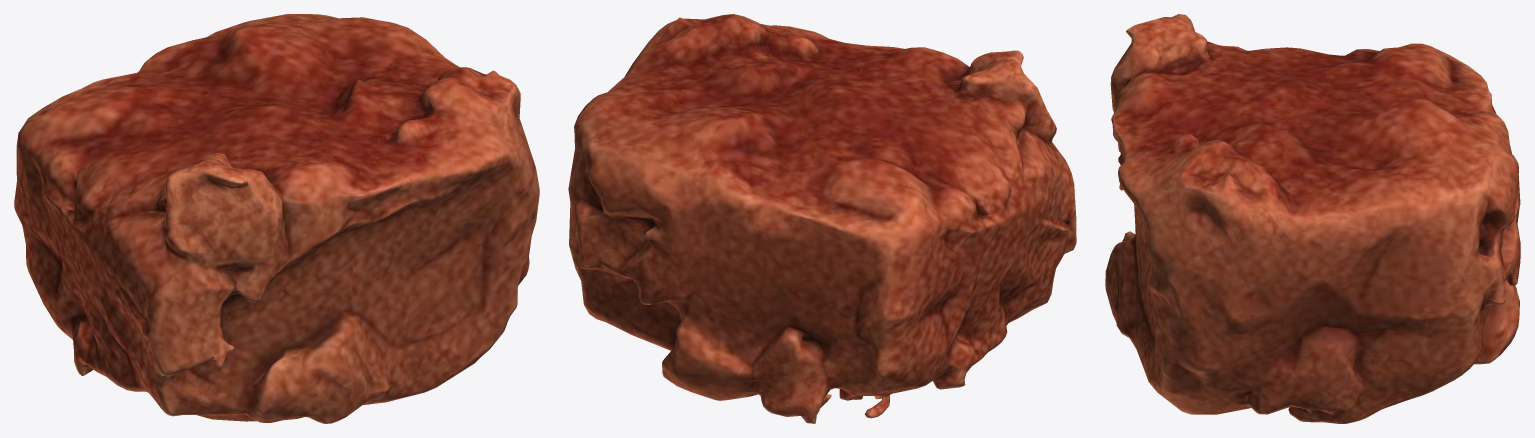
The model's file is giblet2.glb.
3 views of the same model, side by side, from view 1: azimuth 30°, elevation 25°; view 2: azimuth 150°, elevation 25°; view 3: azimuth 270°, elevation 25° (orthographic). The views are drawn at different scales.
Parts seen in each view (by area): view 1: Mesh_0; view 2: Mesh_0; view 3: Mesh_0.
Boxes of the visible parts, x1,y1,x2,y2 form: Mesh_0: (14, 14, 539, 423); Mesh_0: (568, 14, 1076, 423); Mesh_0: (1105, 14, 1520, 423).
Size of the model in its own units: 1.9 by 1.23 by 1.68.
Materials: 1 (1 with a texture image).
